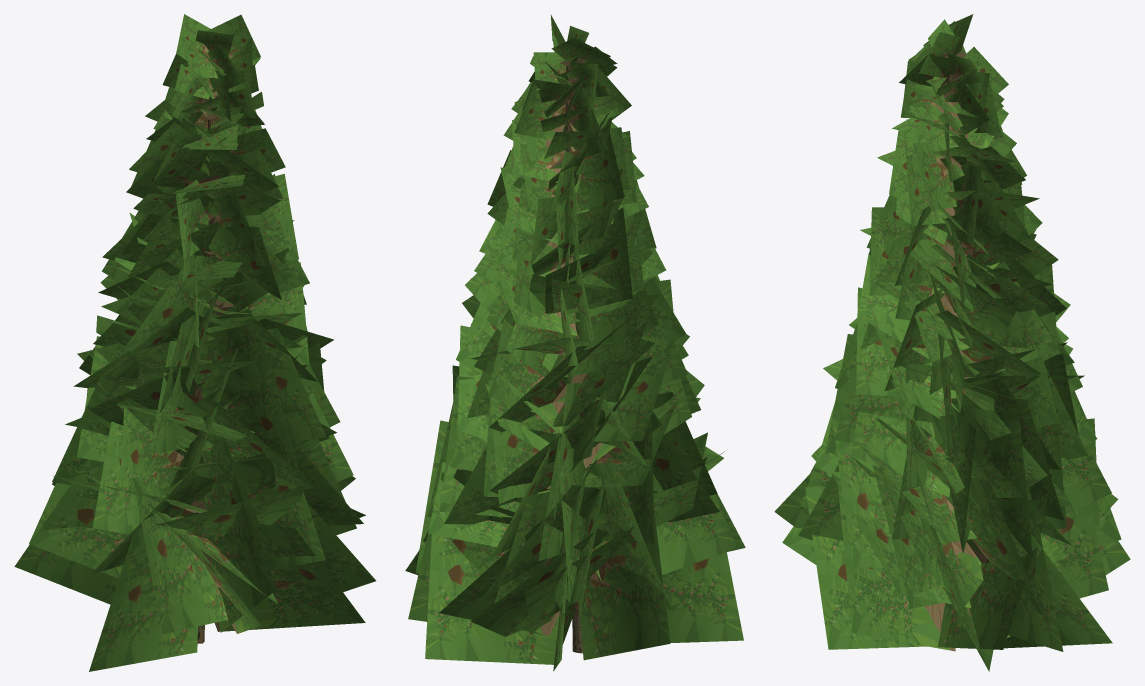
The model's file is LowPolyTrees.obj.
3 views of the same model, side by side, from view 1: azimuth 30°, elevation 25°; view 2: azimuth 150°, elevation 25°; view 3: azimuth 270°, elevation 25° (orthographic).
Visible parts, largest first — view 1: Tree; view 2: Tree; view 3: Tree.
Part boxes in pixels (bbox=[...]): Tree: bbox=[14, 14, 375, 671]; Tree: bbox=[405, 14, 745, 671]; Tree: bbox=[774, 14, 1130, 671].
Bounding box in the file's own units: 0.7846 × 1.64 × 0.8422.
2 materials, 2 textured.
